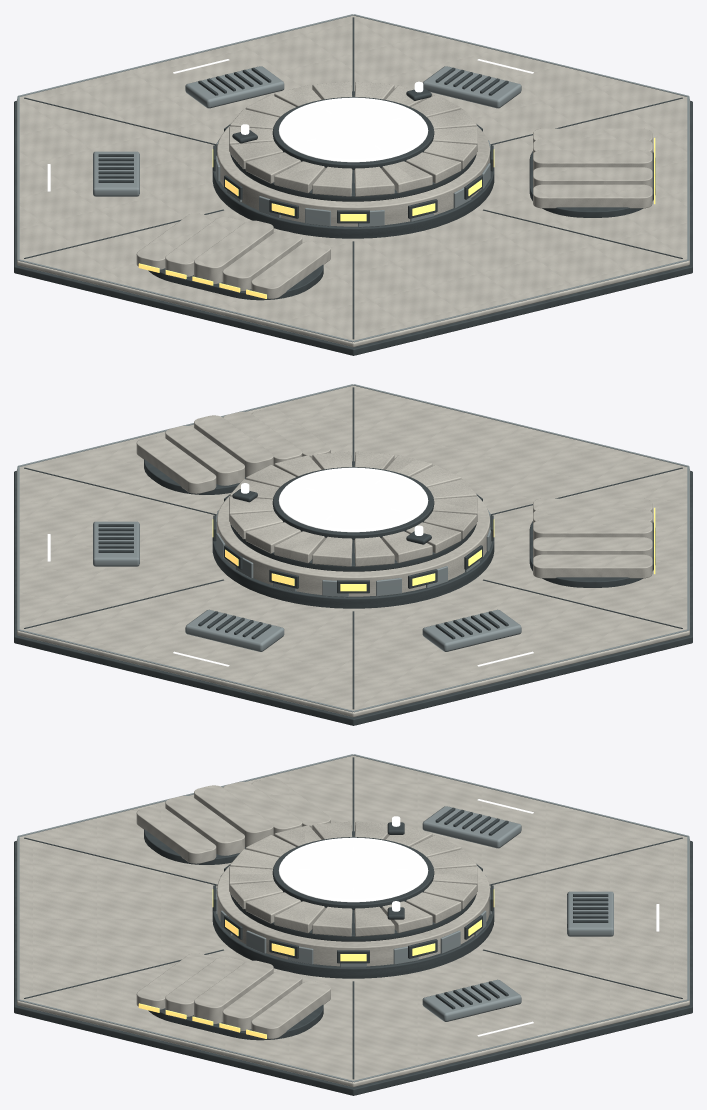
File: crown-command.glb
The picture shows the model from 3 angles, top to bottom: view 1: azimuth 30°, elevation 25°; view 2: azimuth 150°, elevation 25°; view 3: azimuth 270°, elevation 25°; orthographic projection.
Visible parts, largest first — view 1: MF_Roof__structure_ivory_ceramic, MF_Roof_Crown__structure_ivory_ceramic, MF_Roof__structure_graphite_joints, MF_Roof__brushed_titanium, MF_Roof_Crown__structure_graphite_joints, MF_Roof_Crown__identity_roof_inset, MF_Roof_Crown__brushed_titanium, MF_Roof_Crown__identity_roof_ring, MF_Roof_Crown__practical_warm_window_glass, MF_Roof__practical_warm_window_glass; view 2: MF_Roof__structure_ivory_ceramic, MF_Roof_Crown__structure_ivory_ceramic, MF_Roof__structure_graphite_joints, MF_Roof__brushed_titanium, MF_Roof_Crown__structure_graphite_joints, MF_Roof_Crown__identity_roof_inset, MF_Roof_Crown__brushed_titanium, MF_Roof_Crown__identity_roof_ring, MF_Roof_Crown__practical_warm_window_glass; view 3: MF_Roof__structure_ivory_ceramic, MF_Roof_Crown__structure_ivory_ceramic, MF_Roof__structure_graphite_joints, MF_Roof__brushed_titanium, MF_Roof_Crown__structure_graphite_joints, MF_Roof_Crown__identity_roof_inset, MF_Roof_Crown__brushed_titanium, MF_Roof_Crown__identity_roof_ring, MF_Roof_Crown__practical_warm_window_glass, MF_Roof__practical_warm_window_glass.
Boxes of the visible parts, x1=… form: MF_Roof__structure_ivory_ceramic: x1=17, y1=15, x2=689, y2=347; MF_Roof_Crown__structure_ivory_ceramic: x1=217, y1=81, x2=489, y2=226; MF_Roof__structure_graphite_joints: x1=14, y1=17, x2=692, y2=355; MF_Roof__brushed_titanium: x1=17, y1=14, x2=689, y2=342; MF_Roof_Crown__structure_graphite_joints: x1=212, y1=87, x2=494, y2=238; MF_Roof_Crown__identity_roof_inset: x1=278, y1=100, x2=428, y2=162; MF_Roof_Crown__brushed_titanium: x1=214, y1=139, x2=490, y2=227; MF_Roof_Crown__identity_roof_ring: x1=279, y1=97, x2=427, y2=161; MF_Roof_Crown__practical_warm_window_glass: x1=212, y1=149, x2=494, y2=221; MF_Roof__practical_warm_window_glass: x1=138, y1=137, x2=655, y2=298; MF_Roof__structure_ivory_ceramic: x1=17, y1=385, x2=689, y2=717; MF_Roof_Crown__structure_ivory_ceramic: x1=217, y1=451, x2=489, y2=596; MF_Roof__structure_graphite_joints: x1=14, y1=387, x2=692, y2=725; MF_Roof__brushed_titanium: x1=17, y1=384, x2=689, y2=712; MF_Roof_Crown__structure_graphite_joints: x1=212, y1=461, x2=494, y2=608; MF_Roof_Crown__identity_roof_inset: x1=278, y1=470, x2=428, y2=532; MF_Roof_Crown__brushed_titanium: x1=216, y1=509, x2=492, y2=597; MF_Roof_Crown__identity_roof_ring: x1=279, y1=467, x2=427, y2=531; MF_Roof_Crown__practical_warm_window_glass: x1=212, y1=519, x2=494, y2=591; MF_Roof__structure_ivory_ceramic: x1=17, y1=755, x2=689, y2=1087; MF_Roof_Crown__structure_ivory_ceramic: x1=216, y1=821, x2=490, y2=966; MF_Roof__structure_graphite_joints: x1=14, y1=757, x2=692, y2=1095; MF_Roof__brushed_titanium: x1=17, y1=754, x2=689, y2=1082; MF_Roof_Crown__structure_graphite_joints: x1=212, y1=822, x2=494, y2=978; MF_Roof_Crown__identity_roof_inset: x1=278, y1=840, x2=428, y2=902; MF_Roof_Crown__brushed_titanium: x1=215, y1=875, x2=491, y2=967; MF_Roof_Crown__identity_roof_ring: x1=279, y1=837, x2=427, y2=901; MF_Roof_Crown__practical_warm_window_glass: x1=212, y1=889, x2=494, y2=961; MF_Roof__practical_warm_window_glass: x1=138, y1=1003, x2=266, y2=1038.
Bounding box in the file's own units: 36.67 × 3.66 × 31.78.
Materials: 8 (2 with a texture image).
